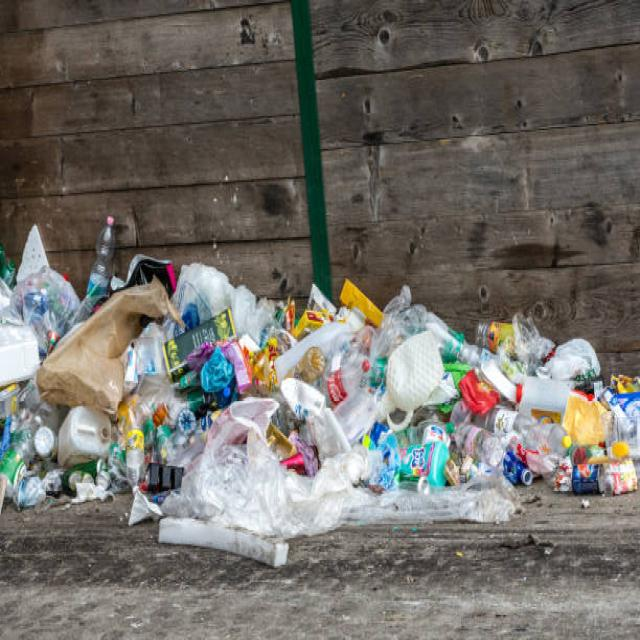cardboard: (42, 282, 171, 423)
plastic: (238, 304, 604, 520)
